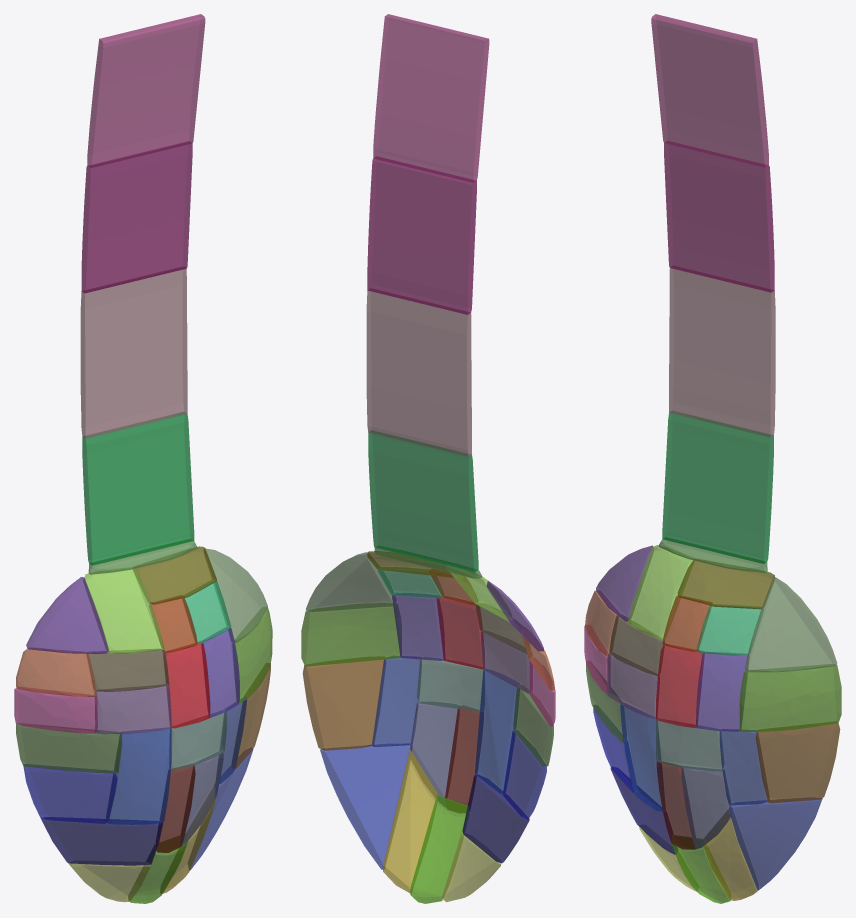
File: Spoon.obj
The picture shows the model from 3 angles, left to right: view 1: azimuth 30°, elevation 25°; view 2: azimuth 150°, elevation 25°; view 3: azimuth 330°, elevation 25°; orthographic projection.
Parts seen in each view (by area): view 1: Shape_IndexedFaceSet.002_Shape_IndexedFaceSet.140, Shape_IndexedFaceSet.001_Shape_IndexedFaceSet.139, Shape_IndexedFaceSet.004_Shape_IndexedFaceSet.142, Shape_IndexedFaceSet.003_Shape_IndexedFaceSet.141, Shape_IndexedFaceSet.020_Shape_IndexedFaceSet.158, Shape_IndexedFaceSet.012_Shape_IndexedFaceSet.150, Shape_IndexedFaceSet.007_Shape_IndexedFaceSet.145, Shape_IndexedFaceSet.009_Shape_IndexedFaceSet.147, Shape_IndexedFaceSet.018_Shape_IndexedFaceSet.156, Shape_IndexedFaceSet.010_Shape_IndexedFaceSet.148, Shape_IndexedFaceSet.028_Shape_IndexedFaceSet.166, Shape_IndexedFaceSet.026_Shape_IndexedFaceSet.164 (+19 smaller); view 2: Shape_IndexedFaceSet.004_Shape_IndexedFaceSet.142, Shape_IndexedFaceSet.002_Shape_IndexedFaceSet.140, Shape_IndexedFaceSet.003_Shape_IndexedFaceSet.141, Shape_IndexedFaceSet.001_Shape_IndexedFaceSet.139, Shape_IndexedFaceSet.006_Shape_IndexedFaceSet.144, Shape_IndexedFaceSet.015_Shape_IndexedFaceSet.153, Shape_IndexedFaceSet.011_Shape_IndexedFaceSet.149, Shape_IndexedFaceSet.008_Shape_IndexedFaceSet.146, Shape_IndexedFaceSet.020_Shape_IndexedFaceSet.158, Shape_IndexedFaceSet.021_Shape_IndexedFaceSet.159, Shape_IndexedFaceSet.022_Shape_IndexedFaceSet.160, Shape_IndexedFaceSet.014_Shape_IndexedFaceSet.152 (+19 smaller); view 3: Shape_IndexedFaceSet.002_Shape_IndexedFaceSet.140, Shape_IndexedFaceSet.001_Shape_IndexedFaceSet.139, Shape_IndexedFaceSet.004_Shape_IndexedFaceSet.142, Shape_IndexedFaceSet.003_Shape_IndexedFaceSet.141, Shape_IndexedFaceSet.011_Shape_IndexedFaceSet.149, Shape_IndexedFaceSet.015_Shape_IndexedFaceSet.153, Shape_IndexedFaceSet.016_Shape_IndexedFaceSet.154, Shape_IndexedFaceSet.006_Shape_IndexedFaceSet.144, Shape_IndexedFaceSet.012_Shape_IndexedFaceSet.150, Shape_IndexedFaceSet.019_Shape_IndexedFaceSet.157, Shape_IndexedFaceSet.023_Shape_IndexedFaceSet.161, Shape_IndexedFaceSet.013_Shape_IndexedFaceSet.151 (+19 smaller).
Part boxes in pixels (x1,y1,x2,y2): Shape_IndexedFaceSet.002_Shape_IndexedFaceSet.140: [80, 267, 187, 438]; Shape_IndexedFaceSet.001_Shape_IndexedFaceSet.139: [82, 412, 194, 565]; Shape_IndexedFaceSet.004_Shape_IndexedFaceSet.142: [87, 14, 205, 167]; Shape_IndexedFaceSet.003_Shape_IndexedFaceSet.141: [81, 141, 192, 293]; Shape_IndexedFaceSet.020_Shape_IndexedFaceSet.158: [106, 728, 171, 824]; Shape_IndexedFaceSet.012_Shape_IndexedFaceSet.150: [83, 567, 163, 653]; Shape_IndexedFaceSet.007_Shape_IndexedFaceSet.145: [41, 817, 162, 865]; Shape_IndexedFaceSet.009_Shape_IndexedFaceSet.147: [23, 764, 117, 823]; Shape_IndexedFaceSet.018_Shape_IndexedFaceSet.156: [16, 723, 121, 773]; Shape_IndexedFaceSet.010_Shape_IndexedFaceSet.148: [26, 577, 108, 653]; Shape_IndexedFaceSet.028_Shape_IndexedFaceSet.166: [95, 685, 171, 734]; Shape_IndexedFaceSet.026_Shape_IndexedFaceSet.164: [16, 648, 96, 696]; Shape_IndexedFaceSet.004_Shape_IndexedFaceSet.142: [373, 14, 489, 182]; Shape_IndexedFaceSet.002_Shape_IndexedFaceSet.140: [366, 289, 471, 456]; Shape_IndexedFaceSet.003_Shape_IndexedFaceSet.141: [367, 157, 476, 314]; Shape_IndexedFaceSet.001_Shape_IndexedFaceSet.139: [368, 430, 478, 572]; Shape_IndexedFaceSet.006_Shape_IndexedFaceSet.144: [320, 744, 411, 869]; Shape_IndexedFaceSet.015_Shape_IndexedFaceSet.153: [302, 657, 385, 750]; Shape_IndexedFaceSet.011_Shape_IndexedFaceSet.149: [301, 603, 401, 666]; Shape_IndexedFaceSet.008_Shape_IndexedFaceSet.146: [383, 750, 437, 892]; Shape_IndexedFaceSet.020_Shape_IndexedFaceSet.158: [475, 669, 519, 793]; Shape_IndexedFaceSet.021_Shape_IndexedFaceSet.159: [410, 795, 468, 903]; Shape_IndexedFaceSet.022_Shape_IndexedFaceSet.160: [410, 701, 458, 806]; Shape_IndexedFaceSet.014_Shape_IndexedFaceSet.152: [372, 656, 421, 746]; Shape_IndexedFaceSet.002_Shape_IndexedFaceSet.140: [669, 266, 775, 437]; Shape_IndexedFaceSet.001_Shape_IndexedFaceSet.139: [662, 411, 773, 563]; Shape_IndexedFaceSet.004_Shape_IndexedFaceSet.142: [651, 14, 768, 167]; Shape_IndexedFaceSet.003_Shape_IndexedFaceSet.141: [664, 141, 774, 292]; Shape_IndexedFaceSet.011_Shape_IndexedFaceSet.149: [739, 664, 841, 731]; Shape_IndexedFaceSet.015_Shape_IndexedFaceSet.153: [755, 722, 840, 803]; Shape_IndexedFaceSet.016_Shape_IndexedFaceSet.154: [745, 577, 837, 672]; Shape_IndexedFaceSet.006_Shape_IndexedFaceSet.144: [729, 798, 822, 890]; Shape_IndexedFaceSet.012_Shape_IndexedFaceSet.150: [627, 545, 694, 640]; Shape_IndexedFaceSet.019_Shape_IndexedFaceSet.157: [696, 652, 748, 731]; Shape_IndexedFaceSet.023_Shape_IndexedFaceSet.161: [677, 558, 774, 609]; Shape_IndexedFaceSet.013_Shape_IndexedFaceSet.151: [656, 644, 704, 728].
Bounding box in the file's own units: 5.04 × 16.58 × 1.89.
